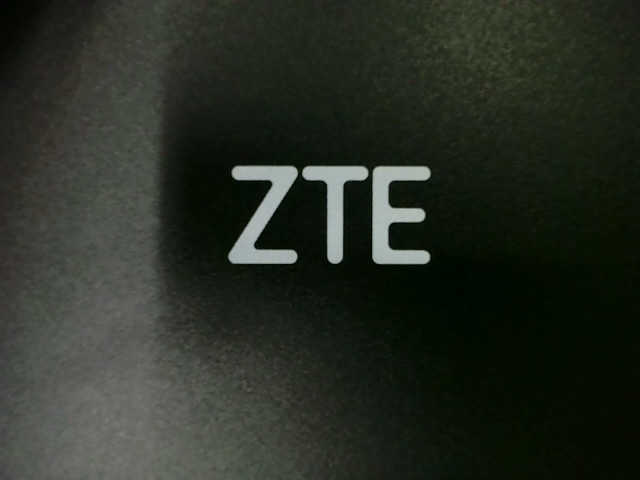AN_ZTE: (217, 160, 439, 272)
